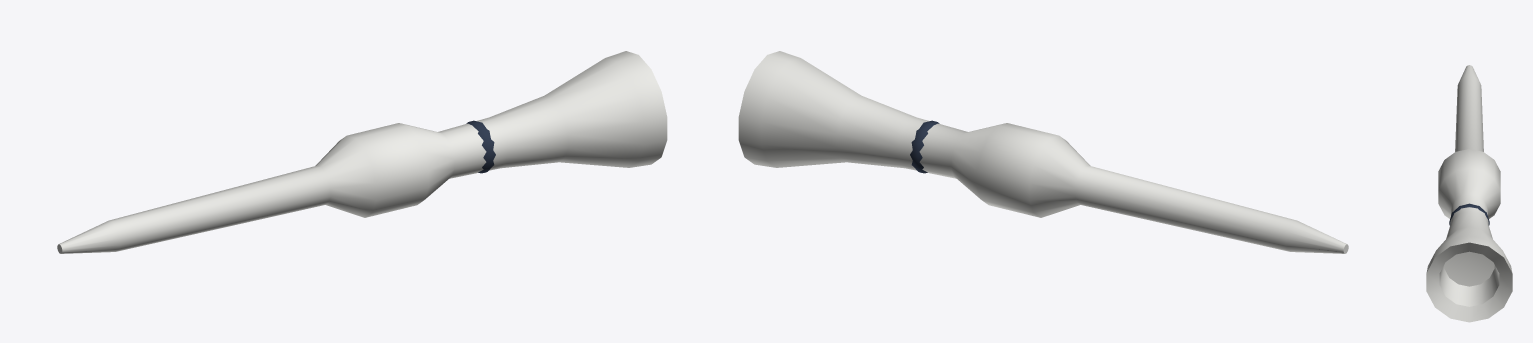
Rendered from pf_tee_loose_step.glb.
3 views of the same model, side by side, from view 1: azimuth 30°, elevation 25°; view 2: azimuth 150°, elevation 25°; view 3: azimuth 270°, elevation 25° (orthographic). The views are drawn at different scales.
Visible parts, largest first — view 1: pf_tee_loose_step_body.001; view 2: pf_tee_loose_step_body.001; view 3: pf_tee_loose_step_body.001.
Boxes of the visible parts, x1=… form: pf_tee_loose_step_body.001: x1=57, y1=51, x2=667, y2=253; pf_tee_loose_step_body.001: x1=738, y1=51, x2=1348, y2=253; pf_tee_loose_step_body.001: x1=1426, y1=65, x2=1512, y2=322.
Bounding box in the file's own units: 0.07 × 0.013 × 0.013.
